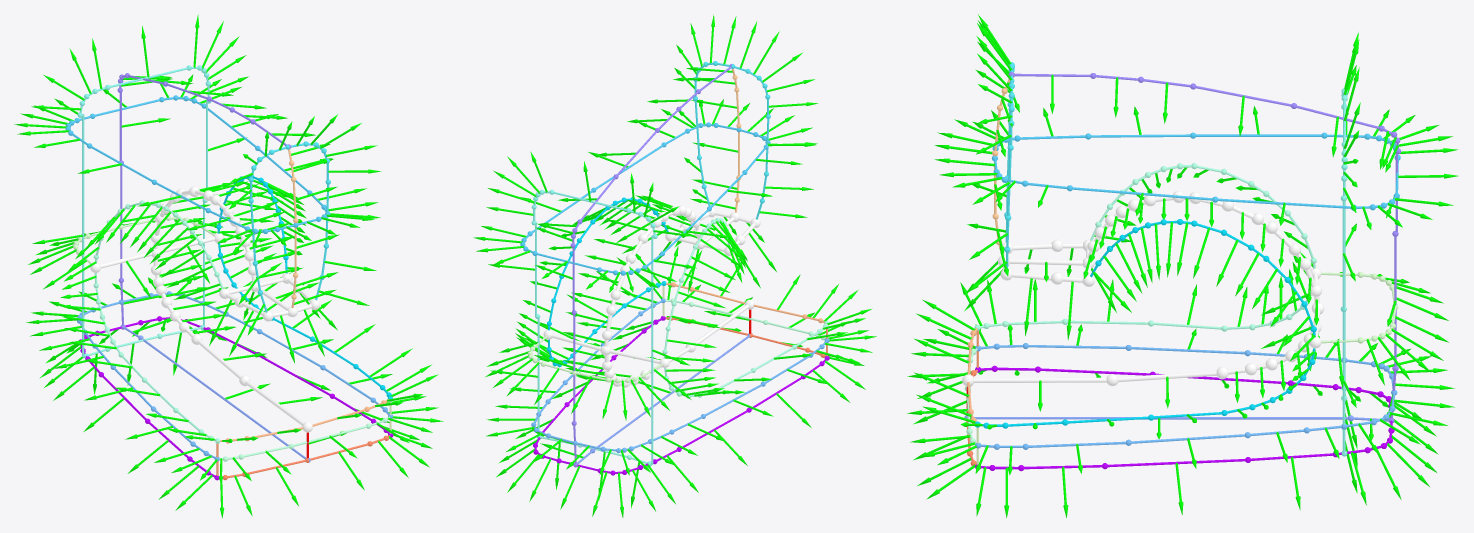
The model's file is t2f_sewing_machine.gltf.
3 renders of one model, left to right at view 1: azimuth 30°, elevation 25°; view 2: azimuth 150°, elevation 25°; view 3: azimuth 270°, elevation 25°, orthographic. The views are drawn at different scales.
Bounding box in the file's own units: 0.5807 × 0.7876 × 0.8864.
